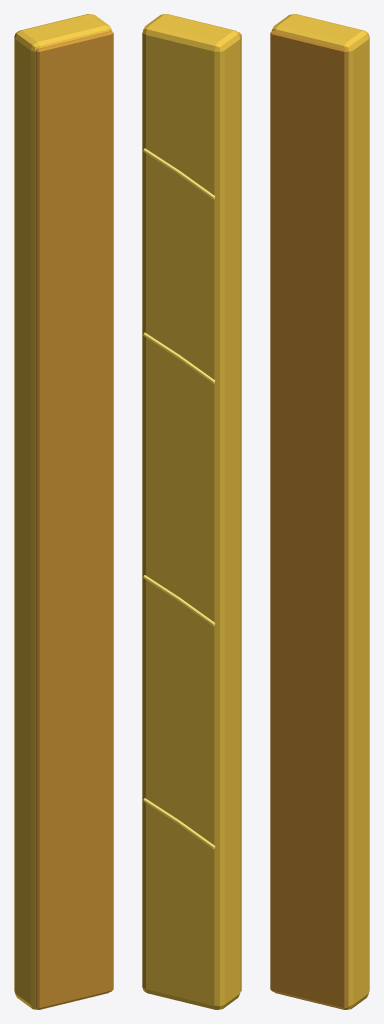
File: egg.glb
The picture shows the model from 3 angles, left to right: view 1: azimuth 30°, elevation 25°; view 2: azimuth 150°, elevation 25°; view 3: azimuth 330°, elevation 25°; orthographic projection.
Parts seen in each view (by area): view 1: browned_bottom, egg_strip; view 2: egg_strip, browned_bottom, omelet_fold_3, omelet_fold_0, omelet_fold_2, omelet_fold_1; view 3: browned_bottom, egg_strip.
Part boxes in pixels (box(x1,y1,x2,y2)): browned_bottom: box(35, 30, 113, 1009); egg_strip: box(14, 14, 112, 1009); egg_strip: box(142, 14, 240, 1009); browned_bottom: box(239, 32, 241, 991); omelet_fold_3: box(143, 148, 215, 199); omelet_fold_0: box(143, 798, 215, 848); omelet_fold_2: box(143, 332, 215, 383); omelet_fold_1: box(143, 575, 215, 625); browned_bottom: box(270, 30, 348, 1009); egg_strip: box(271, 14, 369, 1009).
Size of the model in its own units: 0.088 by 0.998 by 0.0492.
